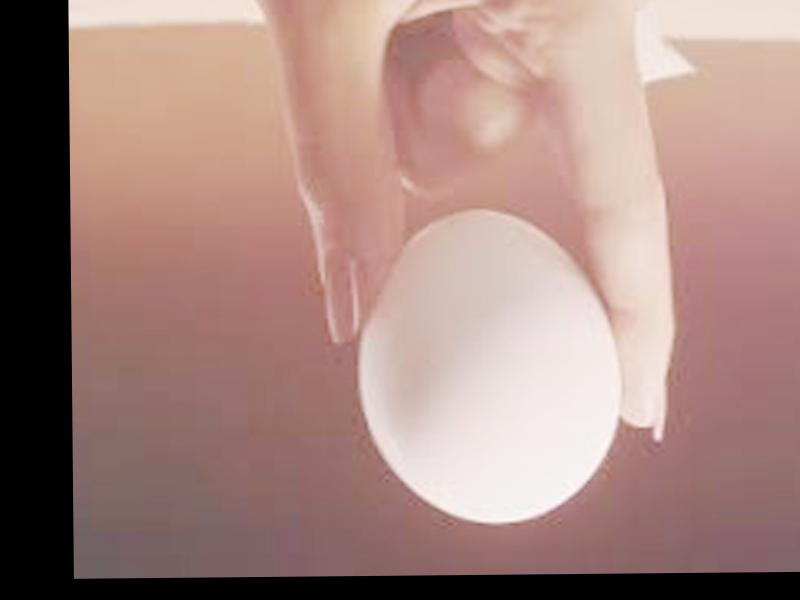Eggs: (352, 204, 622, 522)
